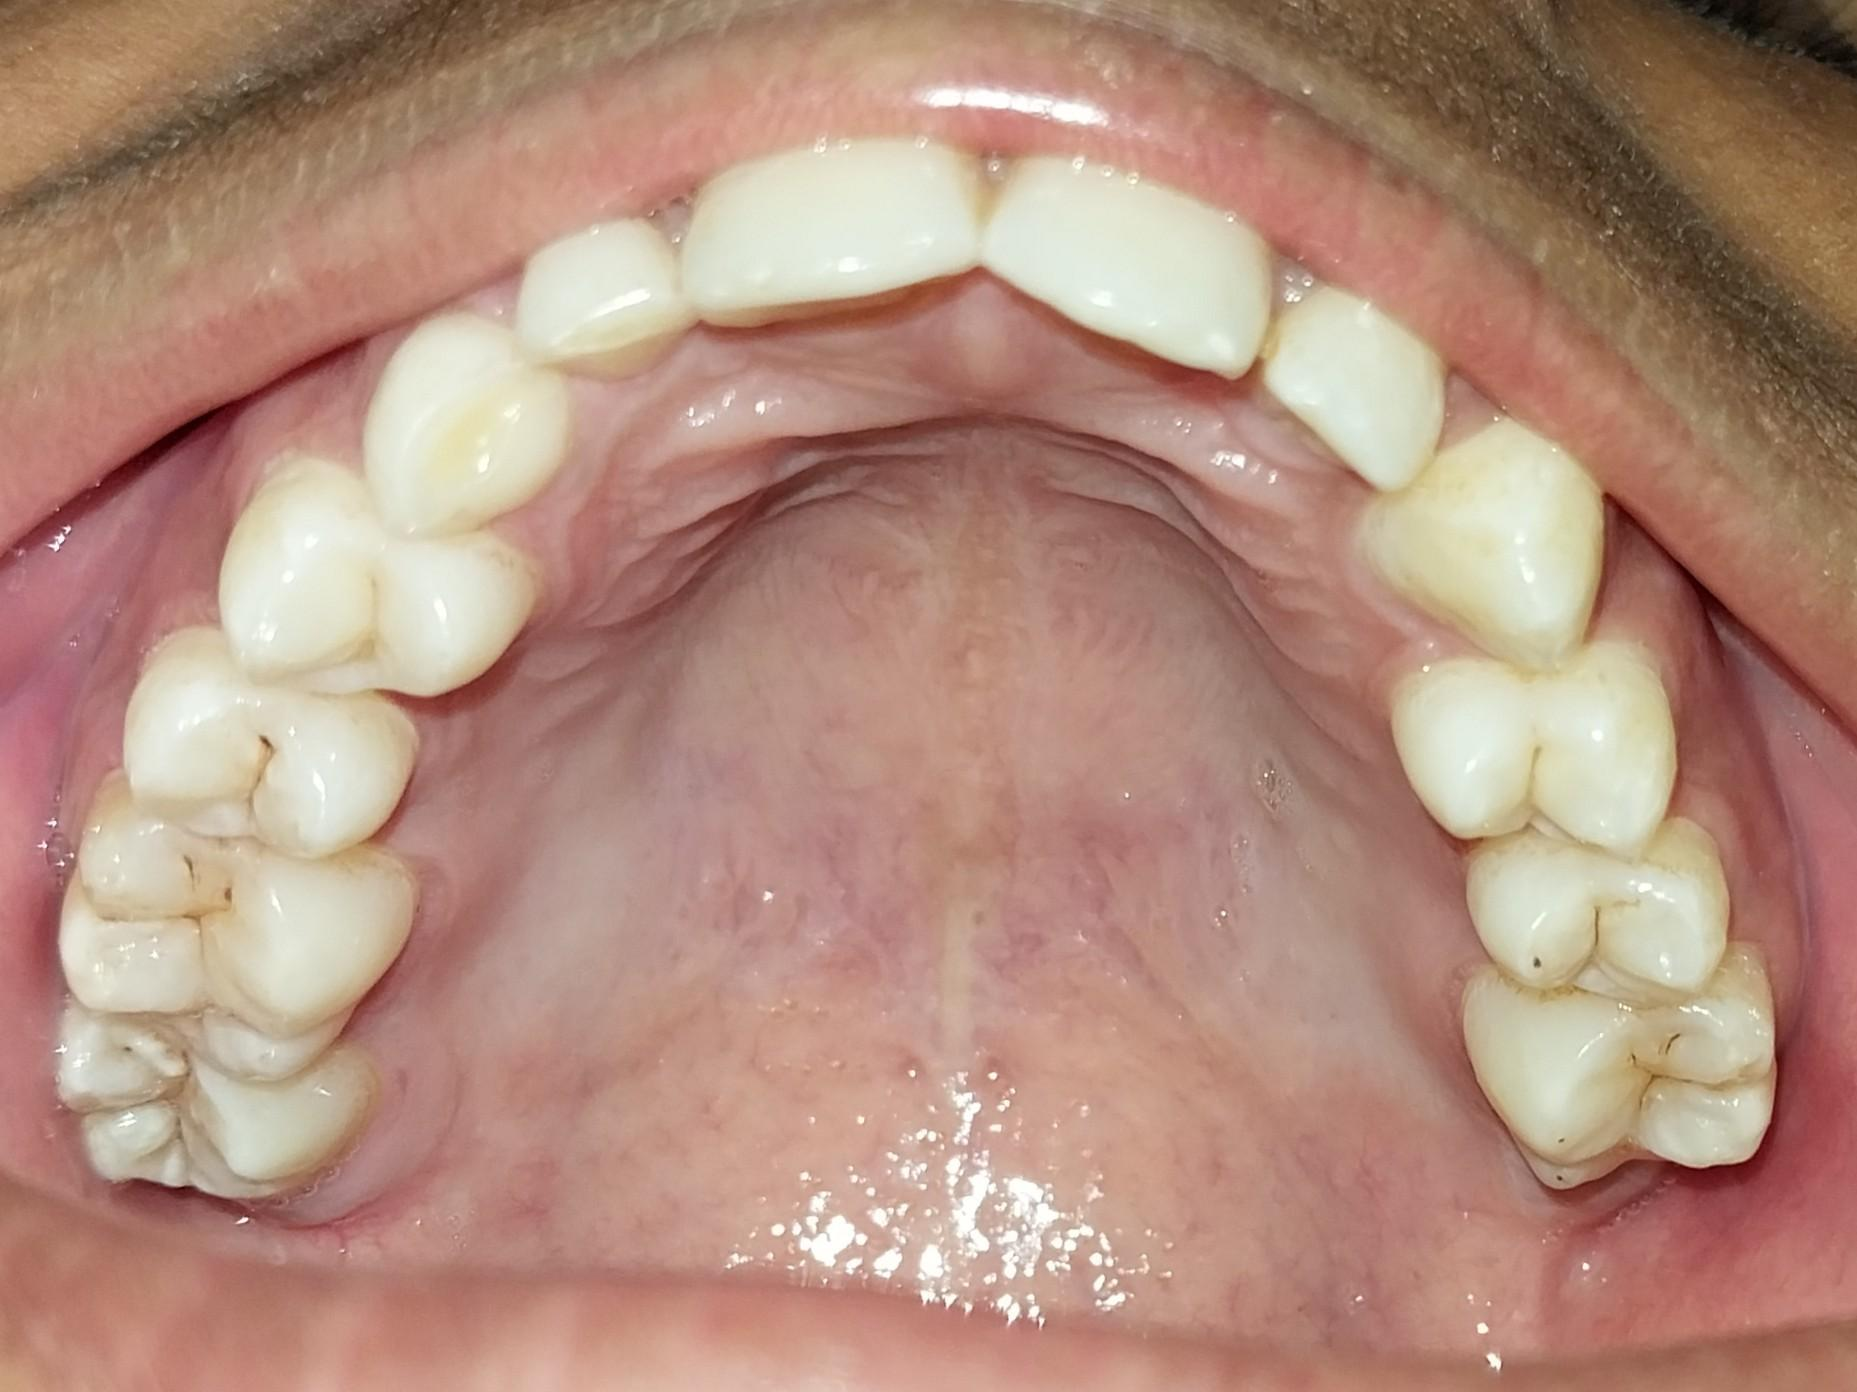D: (54, 769, 411, 1072), (1457, 967, 1783, 1196), (118, 638, 411, 850), (52, 1019, 380, 1203), (1466, 834, 1738, 1007)
